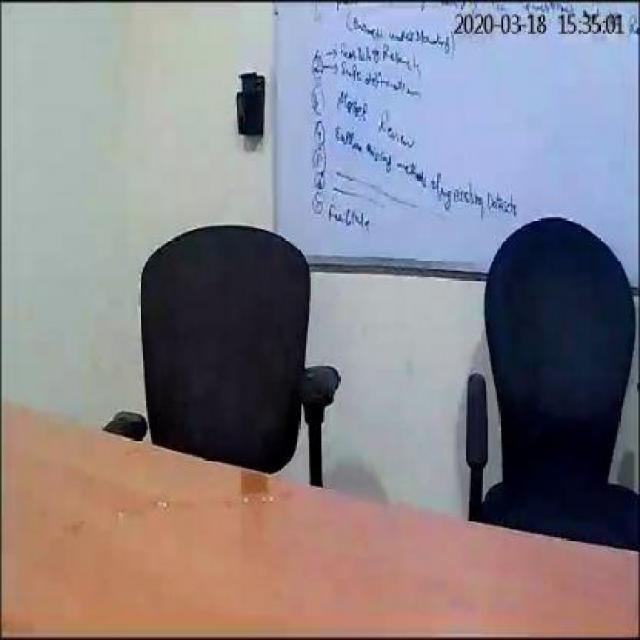spill: (108, 468, 296, 514)
